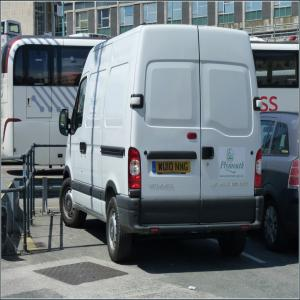Vehicle-registration-plate: (155, 161, 192, 175)
